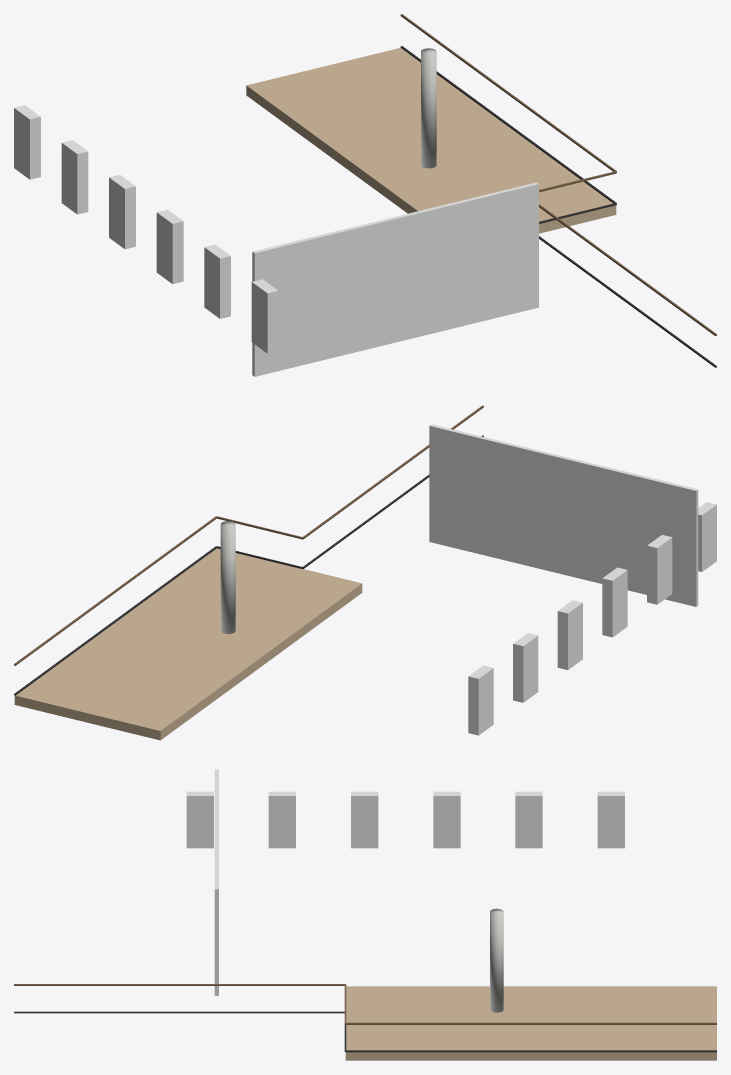
File: SM_Bygg_Helgasetr_P2_V_MN.fbx
The picture shows the model from 3 angles, top to bottom: view 1: azimuth 30°, elevation 25°; view 2: azimuth 150°, elevation 25°; view 3: azimuth 270°, elevation 25°; orthographic projection. The views are drawn at different scales.
Parts seen in each view (by area): view 1: SM_Bygg_Helgasetr_P2_V_MN; view 2: SM_Bygg_Helgasetr_P2_V_MN; view 3: SM_Bygg_Helgasetr_P2_V_MN.
Part boxes in pixels (x1,y1,x2,y2): SM_Bygg_Helgasetr_P2_V_MN: [14, 14, 716, 376]; SM_Bygg_Helgasetr_P2_V_MN: [14, 405, 716, 740]; SM_Bygg_Helgasetr_P2_V_MN: [14, 769, 716, 1060].
Size of the model in its own units: 25.65 by 16.08 by 4.3.
